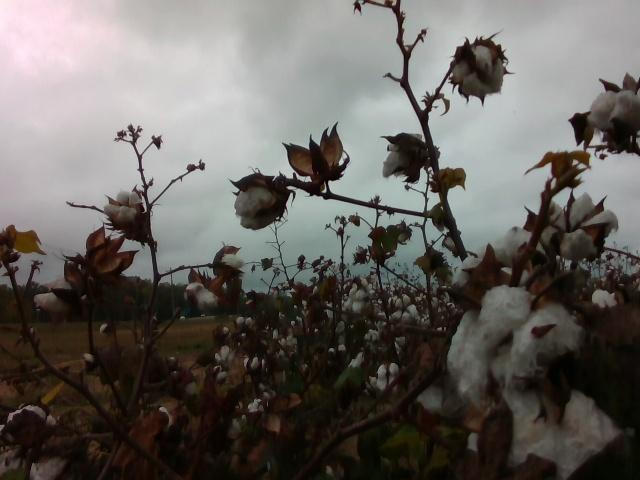cotton_ready: (449, 287, 582, 413), (505, 390, 626, 480), (457, 226, 537, 299), (0, 408, 69, 480), (541, 195, 617, 256), (231, 175, 288, 231), (452, 41, 504, 97), (589, 88, 639, 139), (37, 274, 80, 316), (384, 138, 419, 183), (106, 188, 146, 224), (185, 277, 218, 306)
